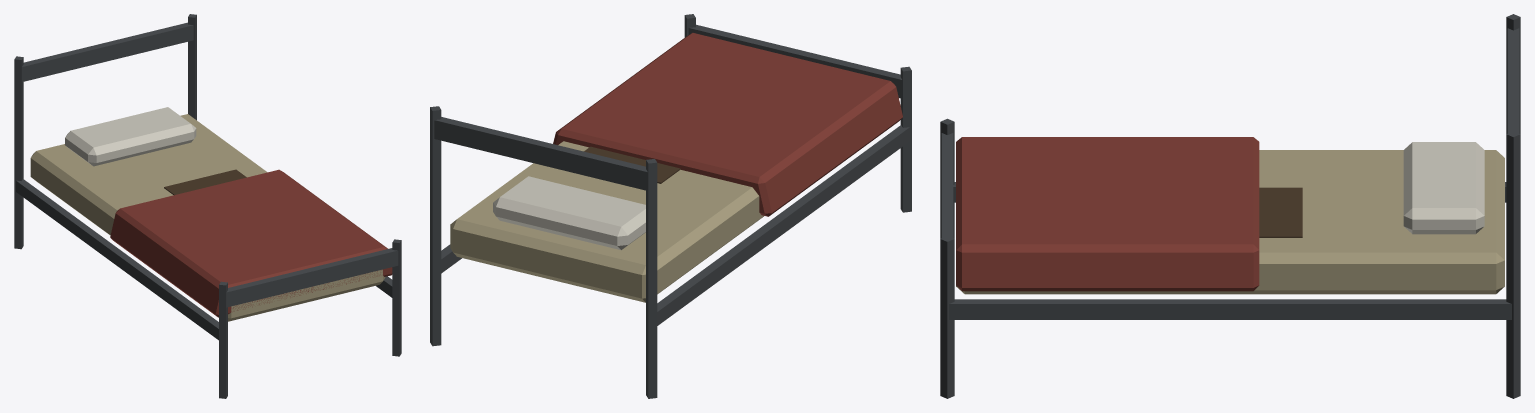
The model's file is ruins_house_bed.glb.
3 renders of one model, left to right at view 1: azimuth 30°, elevation 25°; view 2: azimuth 150°, elevation 25°; view 3: azimuth 270°, elevation 25°, orthographic. The views are drawn at different scales.
Parts seen in each view (by area): view 1: ruins_house_bed_mesh; view 2: ruins_house_bed_mesh; view 3: ruins_house_bed_mesh.
Part boxes in pixels (x1=…): ruins_house_bed_mesh: x1=14, y1=14, x2=401, y2=398; ruins_house_bed_mesh: x1=430, y1=14, x2=911, y2=398; ruins_house_bed_mesh: x1=940, y1=14, x2=1520, y2=398.
Bounding box in the file's own units: 1.01 × 1 × 2.01.
